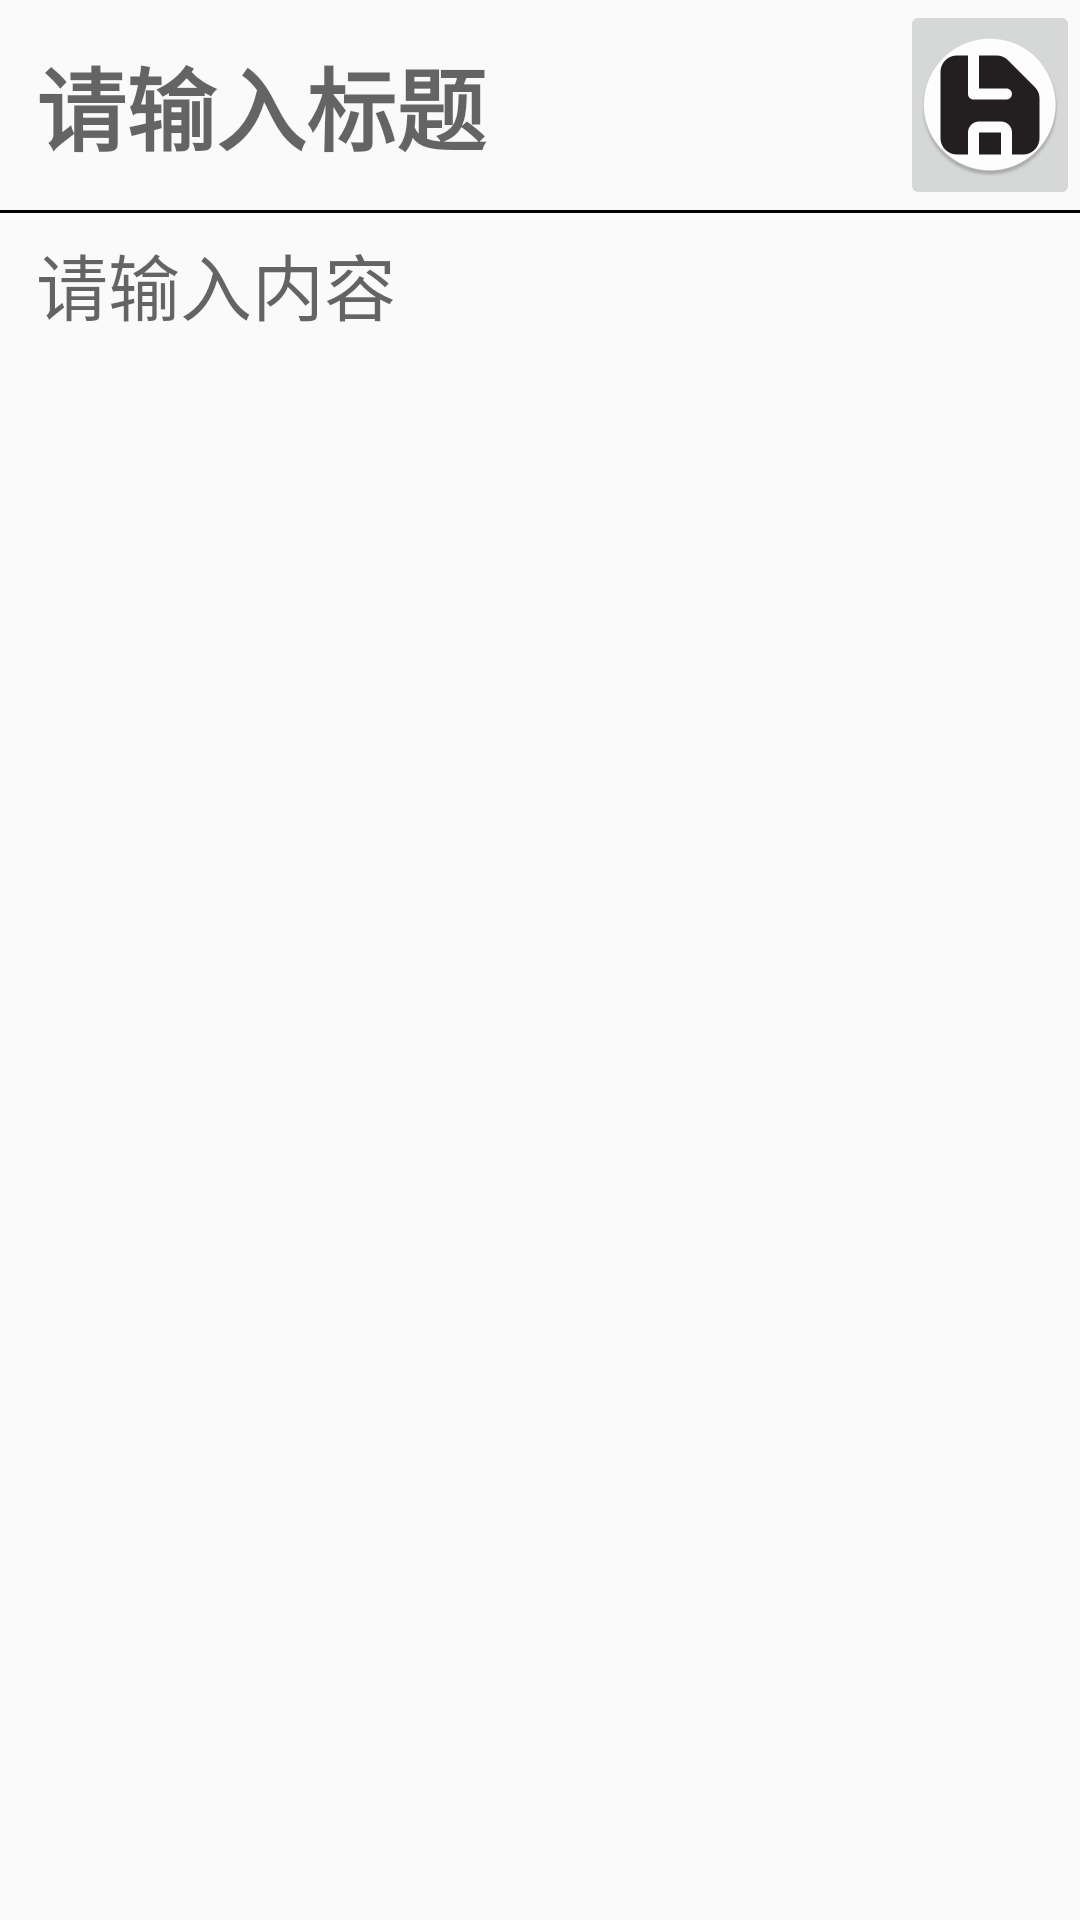

Where to tap for icons on this 1080w x 1920h app screen, as (x,y):
save: (990,105)
